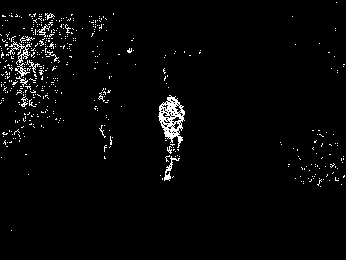person: (157, 96, 186, 181), (94, 86, 114, 159)
